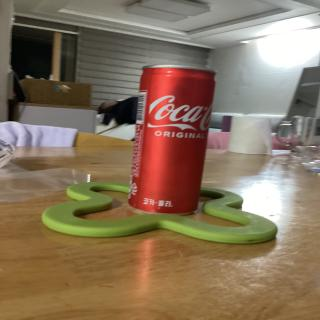cocacola: (123, 58, 220, 220)
